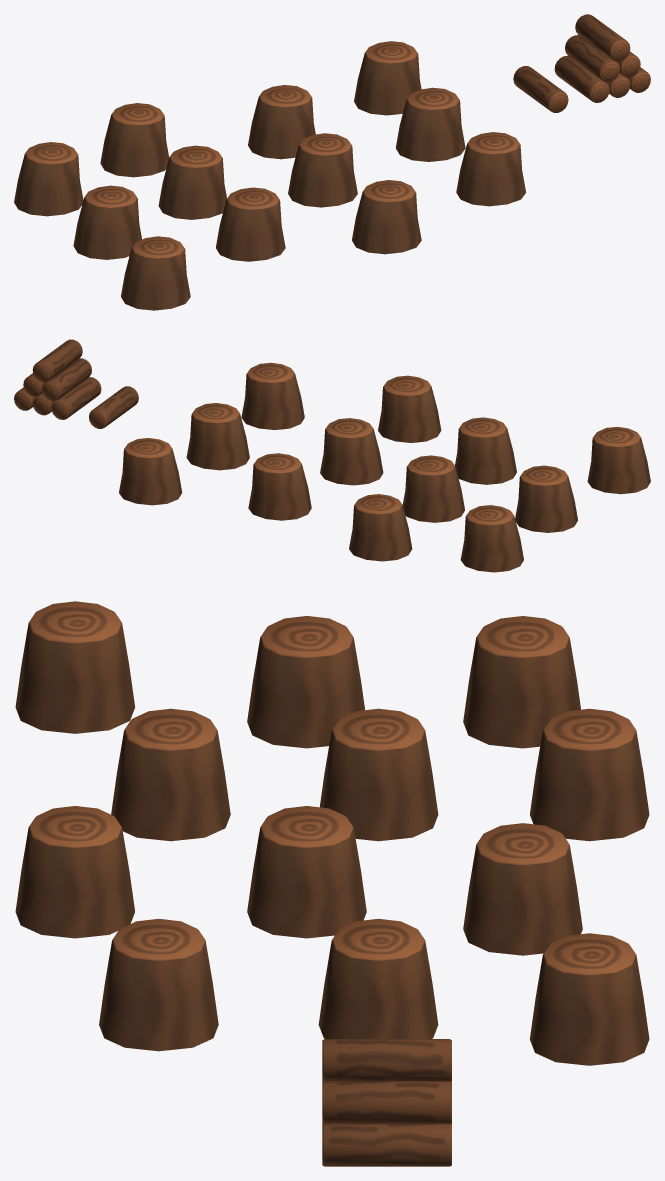
Rendered from arboles_cortados.gltf.
The picture shows the model from 3 angles, top to bottom: view 1: azimuth 30°, elevation 25°; view 2: azimuth 150°, elevation 25°; view 3: azimuth 270°, elevation 25°; orthographic projection. The views are drawn at different scales.
Parts seen in each view (by area): view 1: Tree Trunk_Material.002_0.009; view 2: Tree Trunk_Material.002_0.009; view 3: Tree Trunk_Material.002_0.009.
Part boxes in pixels (x1,y1,x2,y2): Tree Trunk_Material.002_0.009: (14,14,650,310); Tree Trunk_Material.002_0.009: (14,339,650,572); Tree Trunk_Material.002_0.009: (15,601,649,1166).
Size of the model in its own units: 5.34 by 0.657 by 2.72.
Materials: 2 (2 with a texture image).
